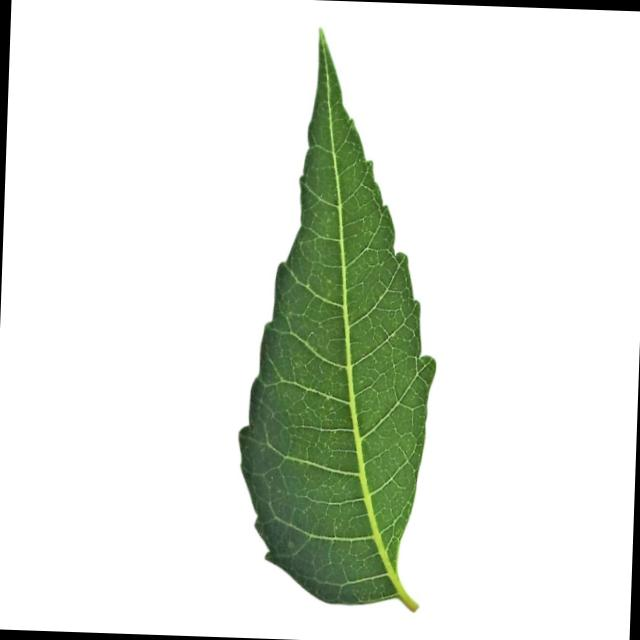Medicinal-Neem: (232, 15, 448, 613)
